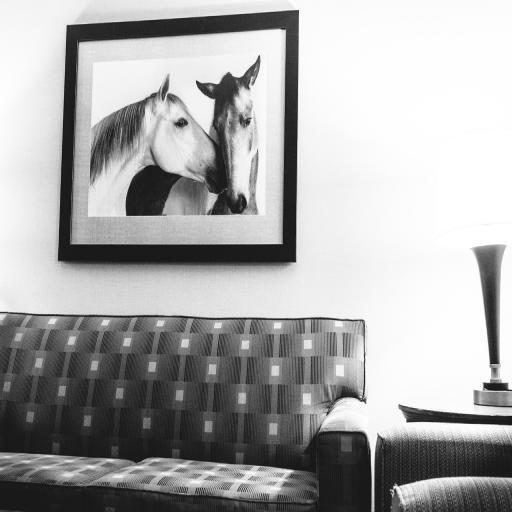Horse: (127, 51, 260, 217), (90, 75, 229, 216)
